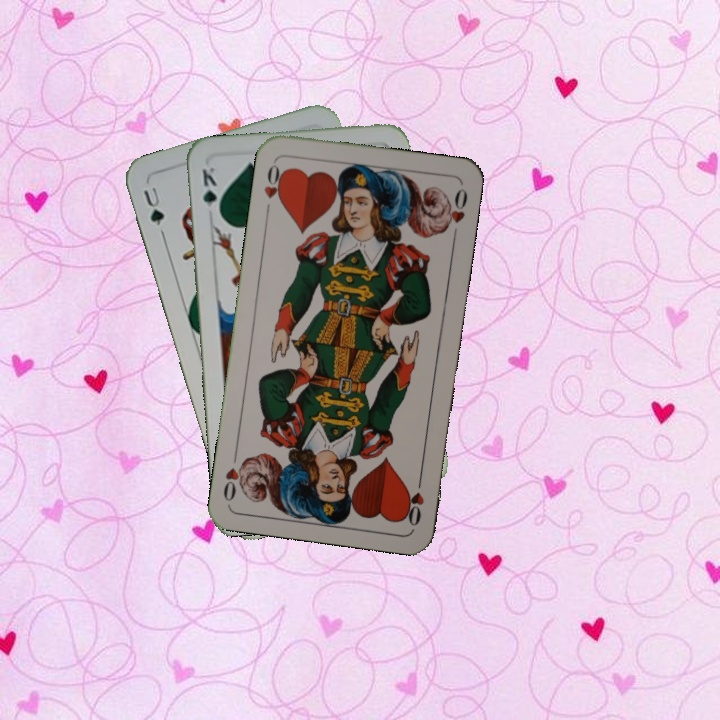GK: (198, 163, 223, 220)
GU: (139, 182, 167, 229)
HO: (260, 157, 288, 216), (401, 470, 427, 529)
